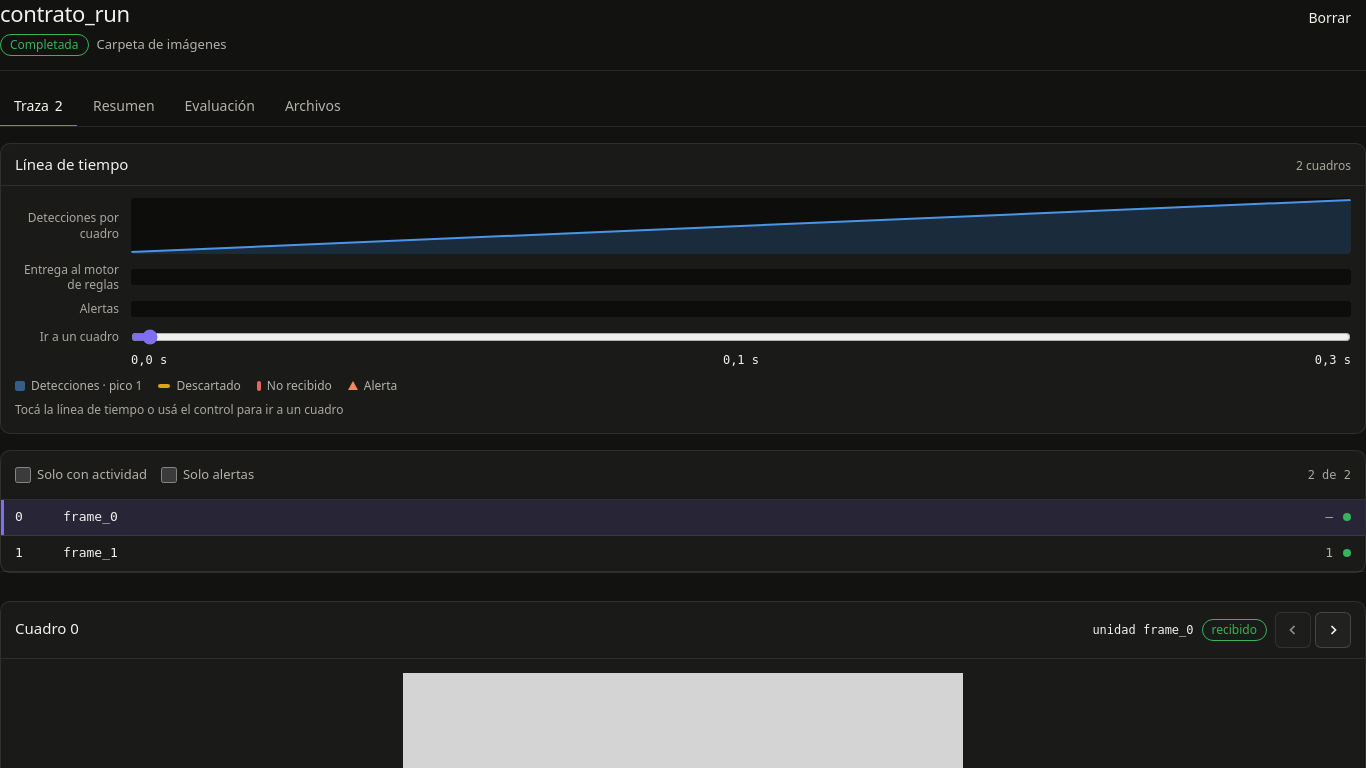
it: muestra la falla del inventario, sin presentarla como ausencia de archivos
The image size is (1366, 768).
Click the tab "Archivos" at coordinates (313, 106), box [271, 86, 355, 126]
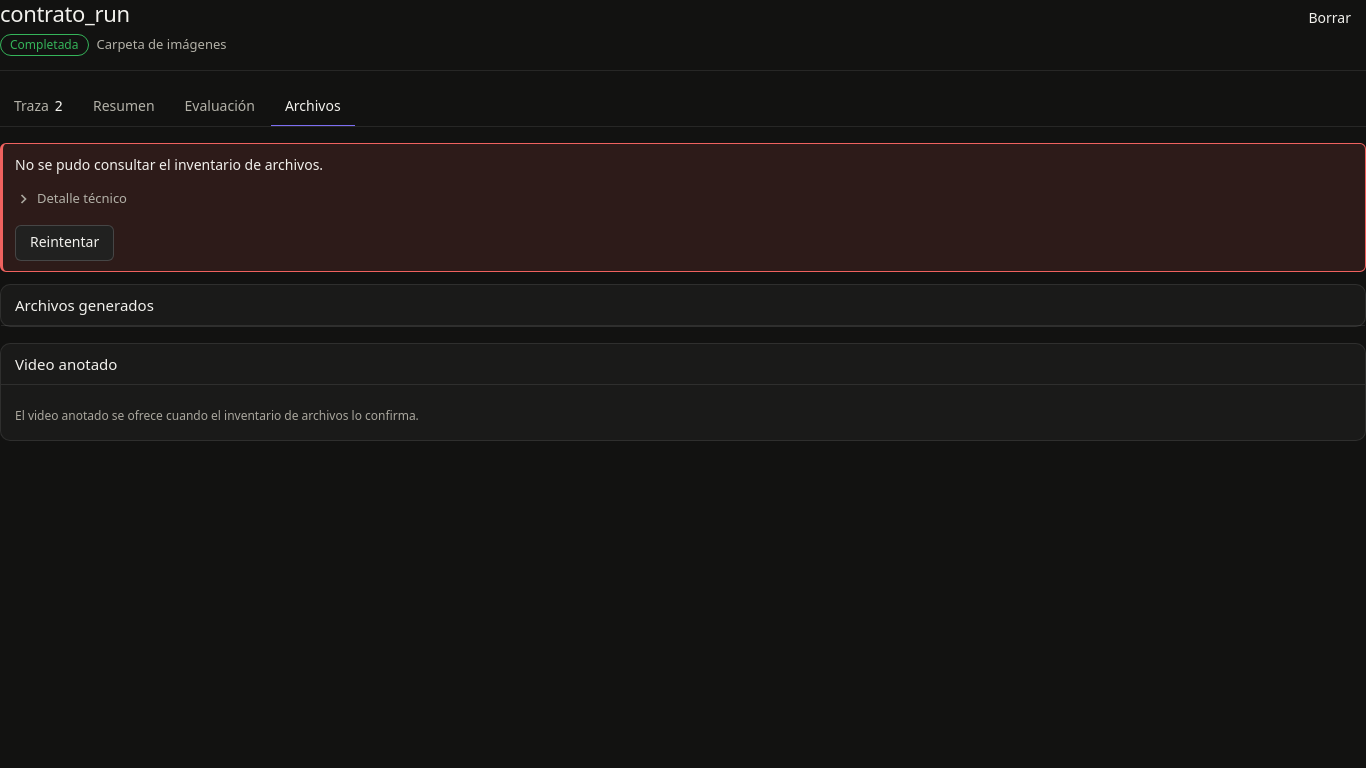
Expected: the text "No se pudo consultar el inventario de archivos." is shown, [15, 154, 323, 174]
